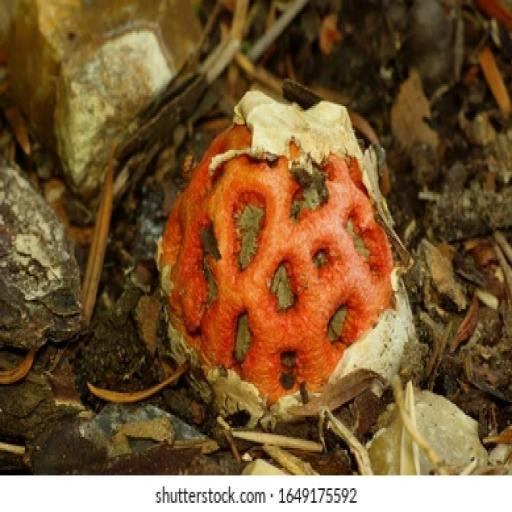mushroom: (148, 106, 419, 432)
